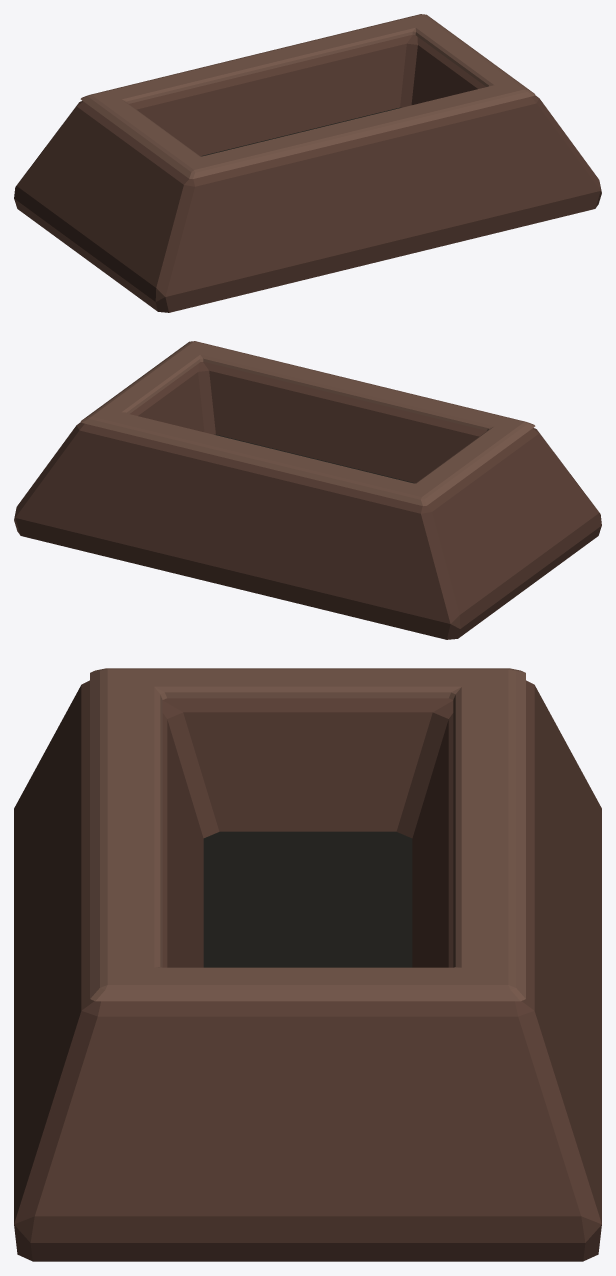
Rendered from ingot_cast.obj.
3 views of the same model, one above another, from view 1: azimuth 30°, elevation 25°; view 2: azimuth 150°, elevation 25°; view 3: azimuth 270°, elevation 25° (orthographic). The views are drawn at different scales.
Parts seen in each view (by area): view 1: ingot_cast; view 2: ingot_cast; view 3: ingot_cast.
Part boxes in pixels (box(x1,y1,x2,y2)): ingot_cast: box(14, 14, 601, 312); ingot_cast: box(14, 341, 601, 639); ingot_cast: box(14, 668, 601, 1261).
Size of the model in its own units: 0.91 by 0.2228 by 0.5304.
